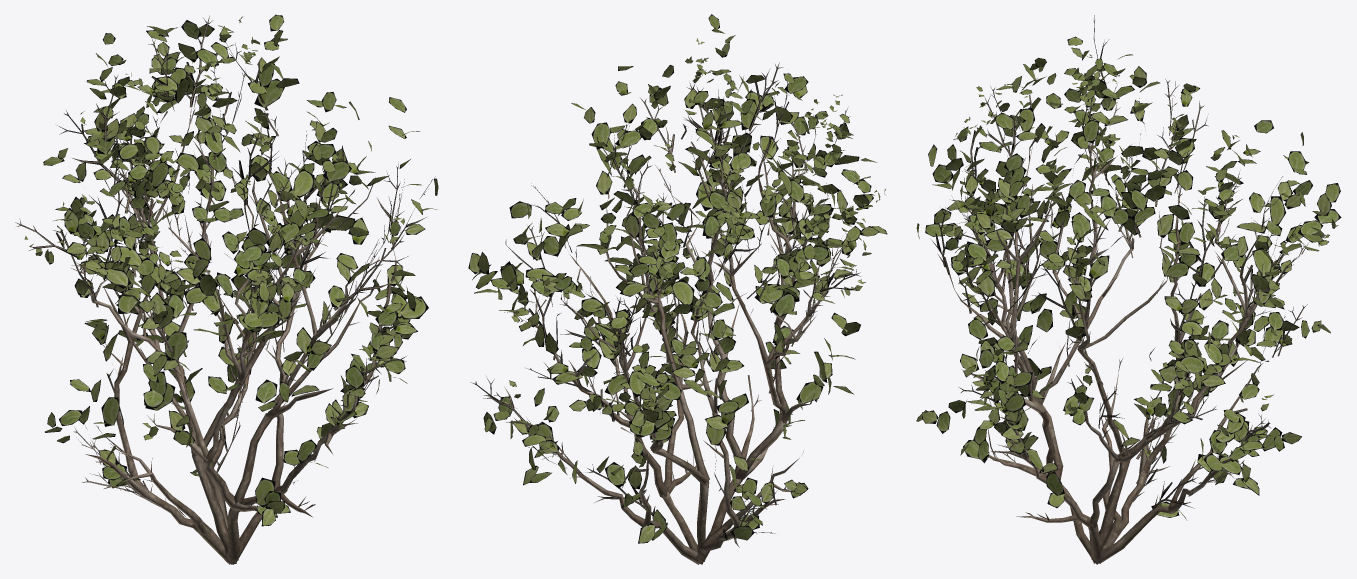
The model's file is arbuste_searsia_b_lod0.glb.
3 renders of one model, left to right at view 1: azimuth 30°, elevation 25°; view 2: azimuth 150°, elevation 25°; view 3: azimuth 270°, elevation 25°, orthographic. The views are drawn at different scales.
Visible parts, largest first — view 1: searsia_lucida_b_LOD0; view 2: searsia_lucida_b_LOD0; view 3: searsia_lucida_b_LOD0.
Part boxes in pixels (bbox=[...]): searsia_lucida_b_LOD0: bbox=[15, 14, 438, 564]; searsia_lucida_b_LOD0: bbox=[468, 14, 887, 564]; searsia_lucida_b_LOD0: bbox=[916, 15, 1341, 564].
Bounding box in the file's own units: 1.47 × 1.97 × 1.48.
2 materials, 2 textured.
